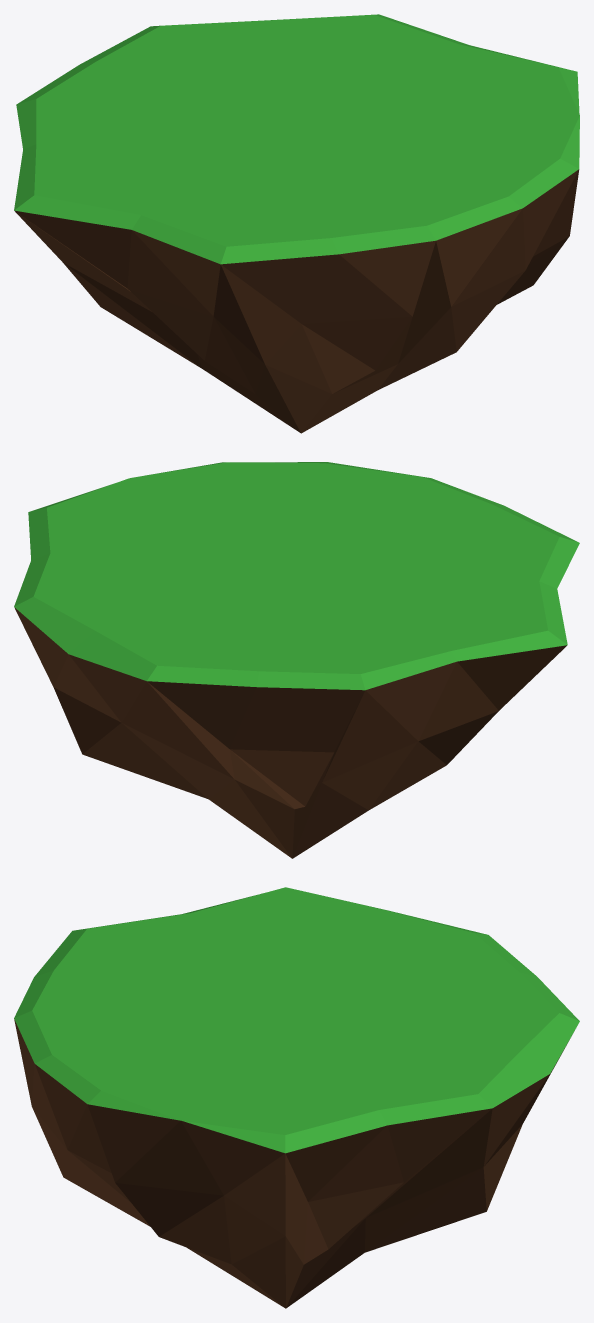
The model's file is Grass Island.fbx.
3 renders of one model, top to bottom at view 1: azimuth 30°, elevation 25°; view 2: azimuth 150°, elevation 25°; view 3: azimuth 270°, elevation 25°, orthographic. The views are drawn at different scales.
Visible parts, largest first — view 1: Grass Biome; view 2: Grass Biome; view 3: Grass Biome.
Boxes of the visible parts, x1=… form: Grass Biome: x1=14, y1=14, x2=579, y2=433; Grass Biome: x1=14, y1=462, x2=579, y2=858; Grass Biome: x1=14, y1=887, x2=579, y2=1308.
Bounding box in the file's own units: 3832 × 1988 × 3430.
